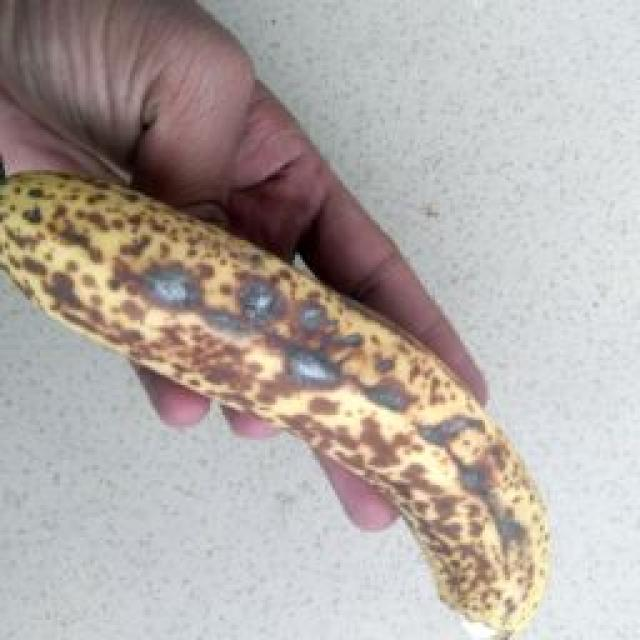banana: (131, 75, 604, 553)
